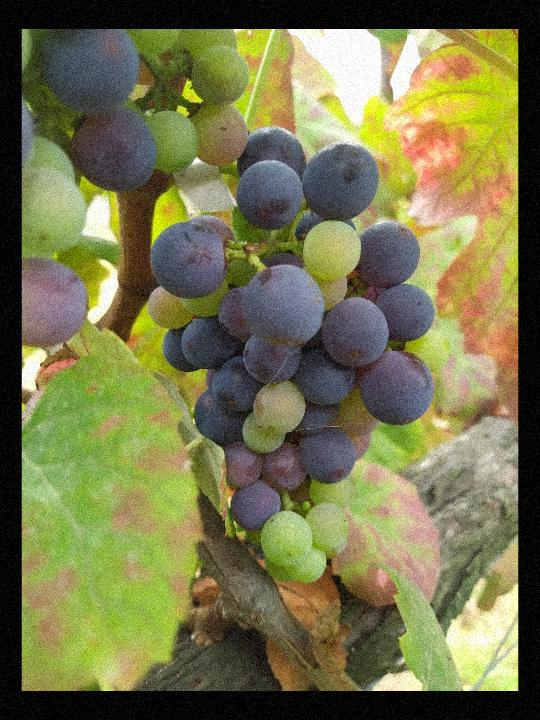grape: (141, 125, 439, 586)
